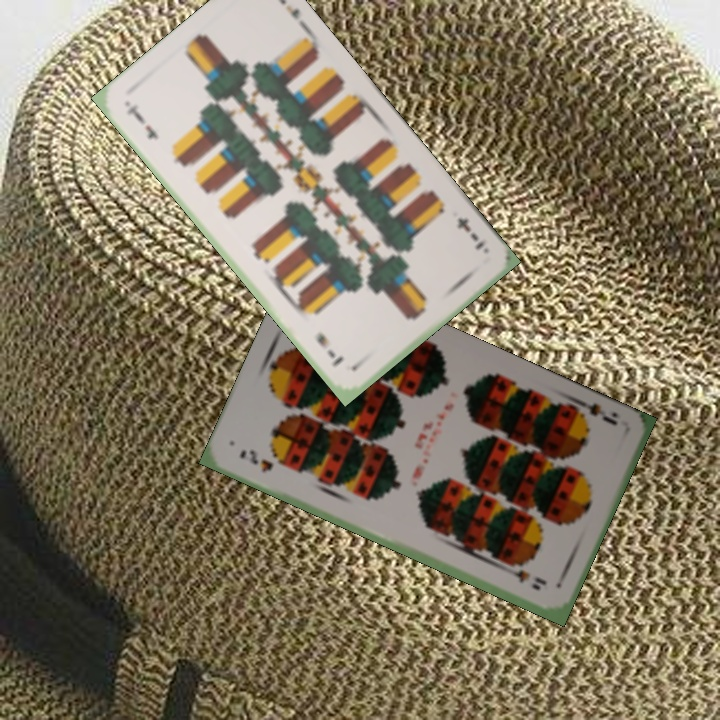E7: (122, 100, 161, 143), (452, 213, 488, 253)
S9: (569, 394, 621, 428), (235, 446, 276, 476)
